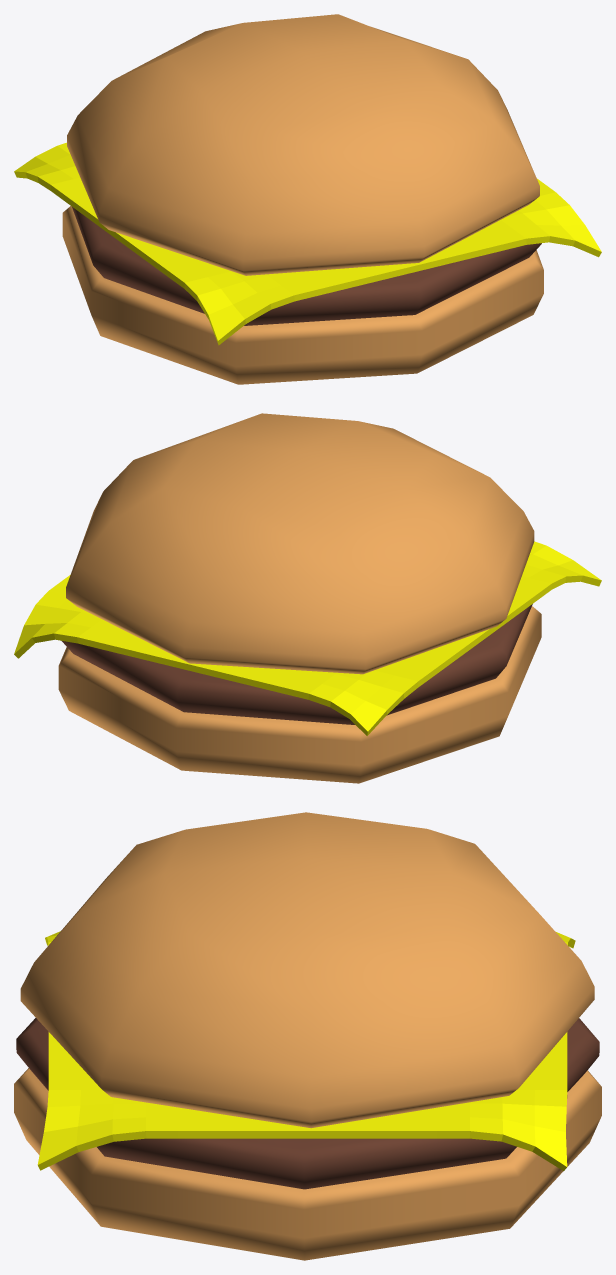
Rendered from theburger.glb.
The picture shows the model from 3 angles, top to bottom: view 1: azimuth 30°, elevation 25°; view 2: azimuth 150°, elevation 25°; view 3: azimuth 270°, elevation 25°; orthographic projection. The views are drawn at different scales.
Visible parts, largest first — view 1: Cube.001, Cube, Cheese, Meat; view 2: Cube.001, Cube, Cheese, Meat; view 3: Cube.001, Cube, Cheese, Meat.
Boxes of the visible parts, box(x1,y1,x2,y2) form: Cube.001: box(67, 14, 539, 275); Cube: box(62, 206, 543, 384); Cheese: box(14, 142, 601, 345); Meat: box(72, 207, 541, 325); Cube.001: box(66, 413, 534, 674); Cube: box(58, 606, 541, 783); Cheese: box(14, 541, 601, 735); Meat: box(61, 604, 532, 724); Cube.001: box(20, 812, 594, 1128); Cube: box(14, 1068, 601, 1260); Cheese: box(37, 931, 575, 1170); Meat: box(16, 1018, 599, 1189).
Size of the model in its own units: 5.6 by 3.33 by 5.6.
